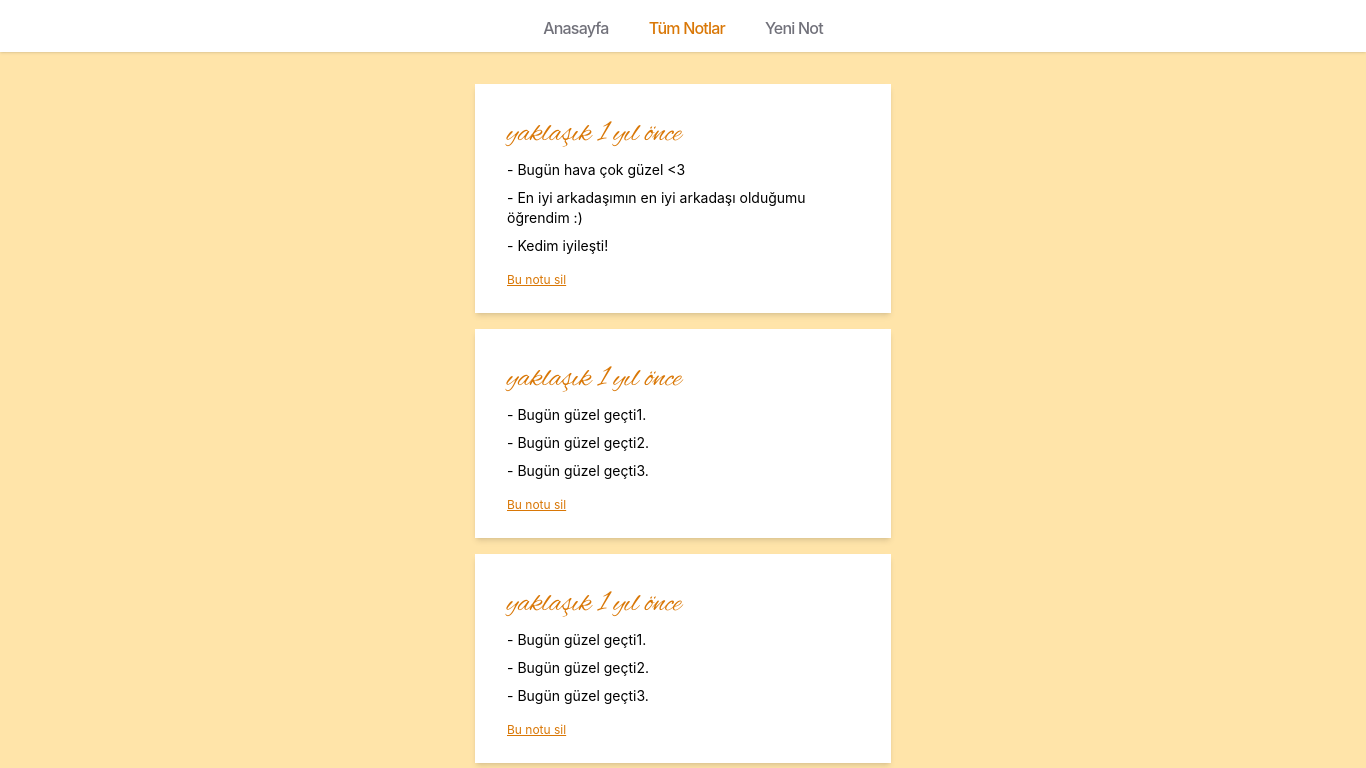
it: No silinince doğru metin ile toast mesajı görüntüleniyor
Click the link "Tüm Notlar" at (687, 28), box [649,18,725,38]
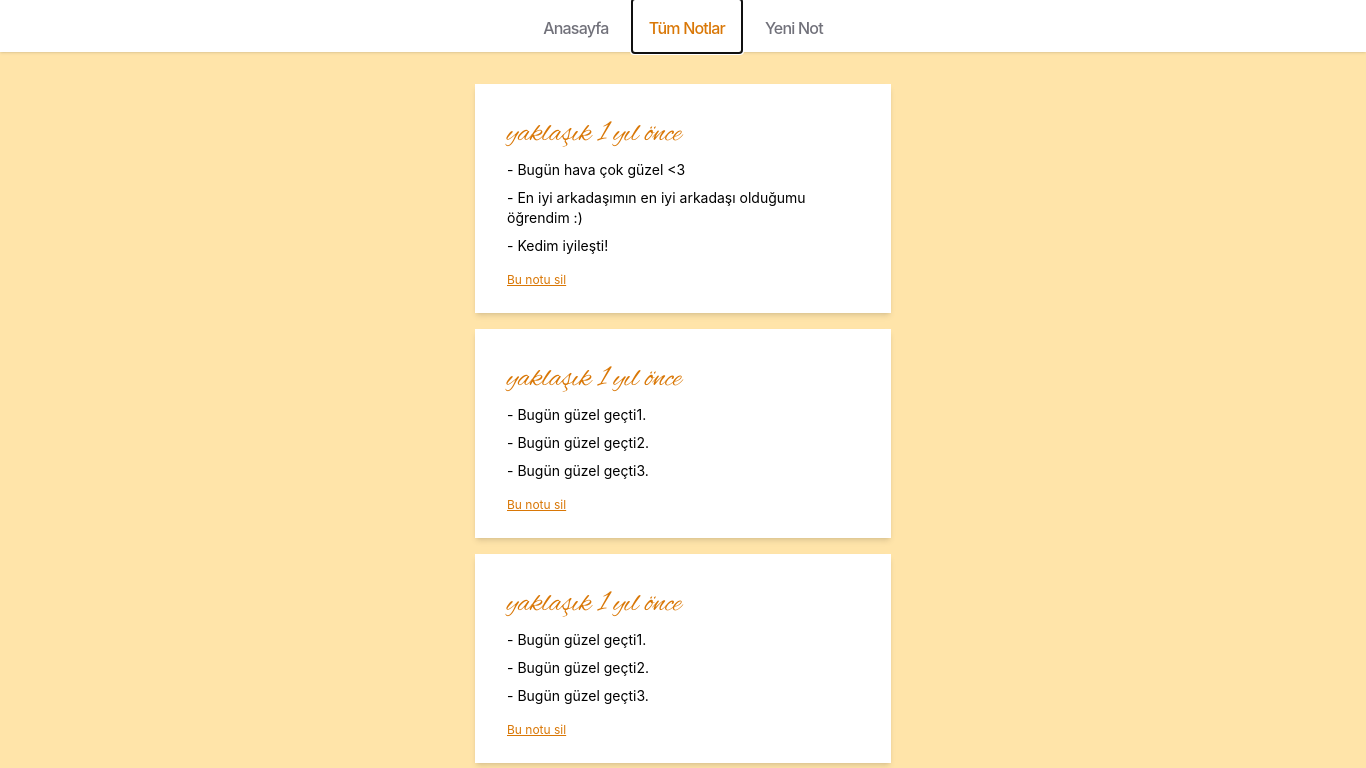
Click the 2nd button "Bu notu sil" at (537, 505), box [507,497,566,513]
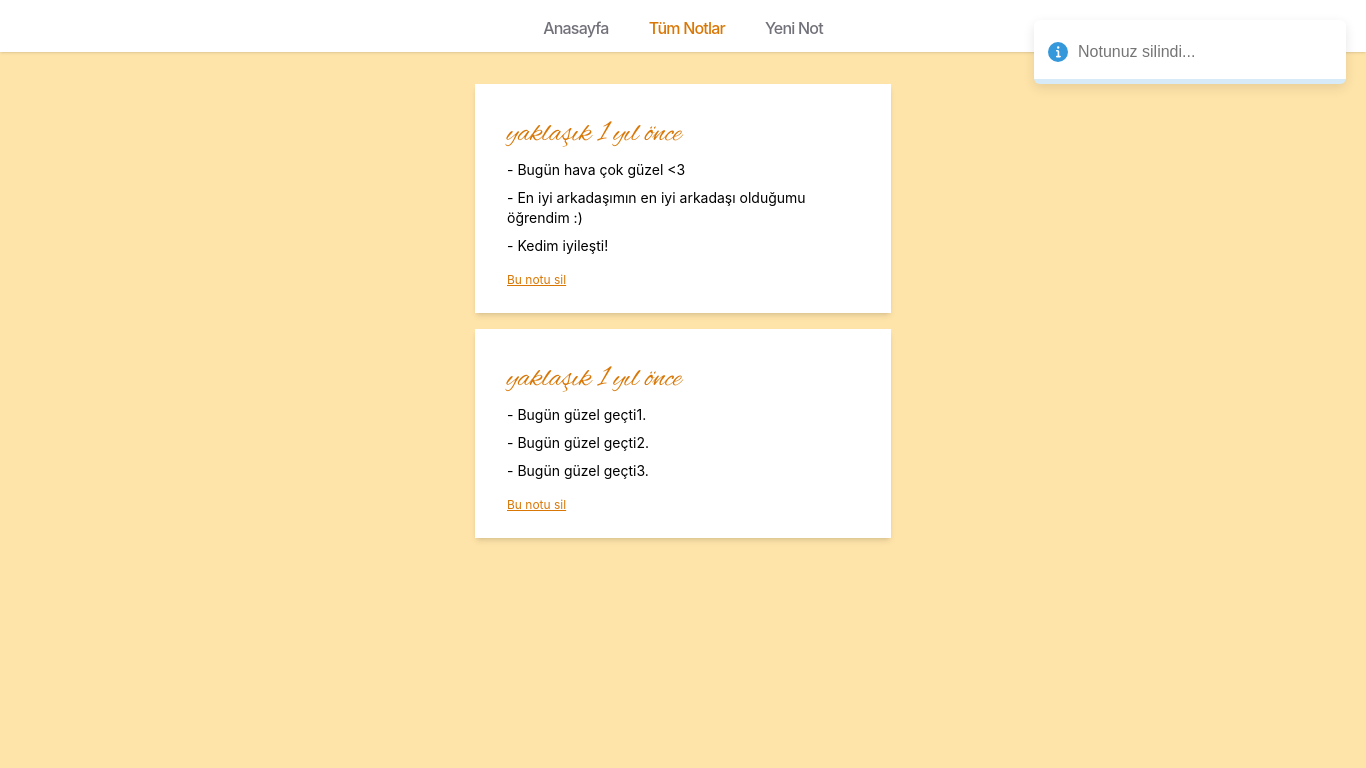
Now the text "Notunuz silindi..." is shown, box [1078,43,1195,60]
